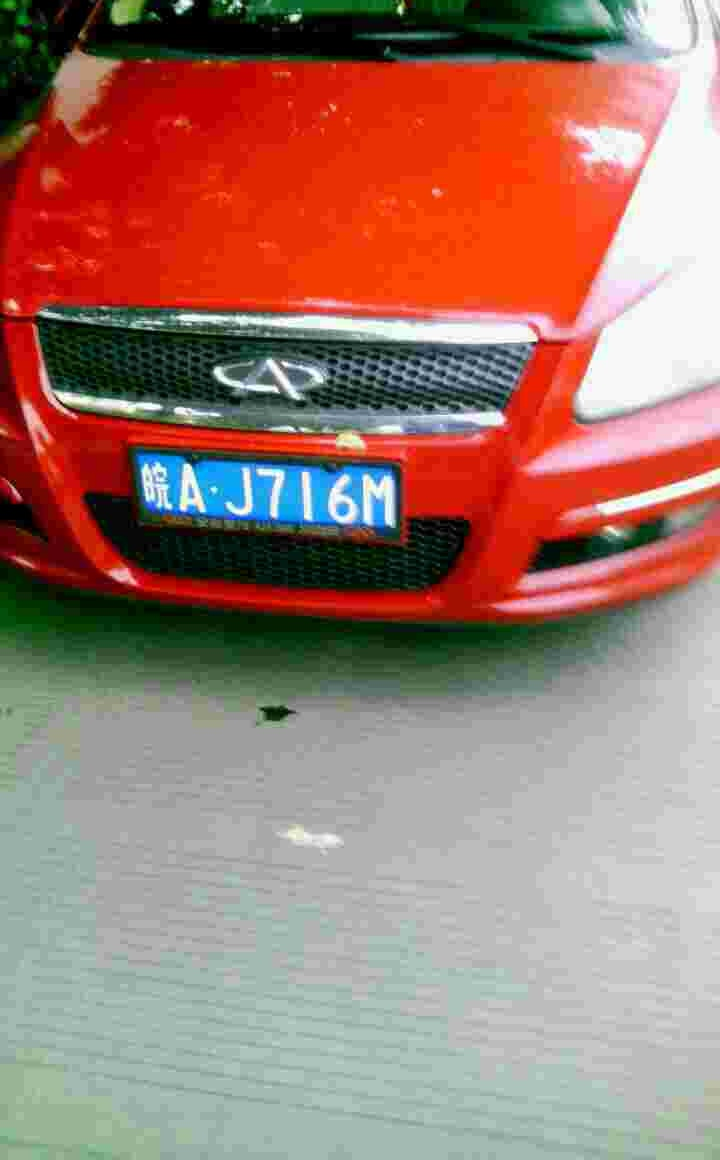license_plate: (136, 455, 399, 530)
